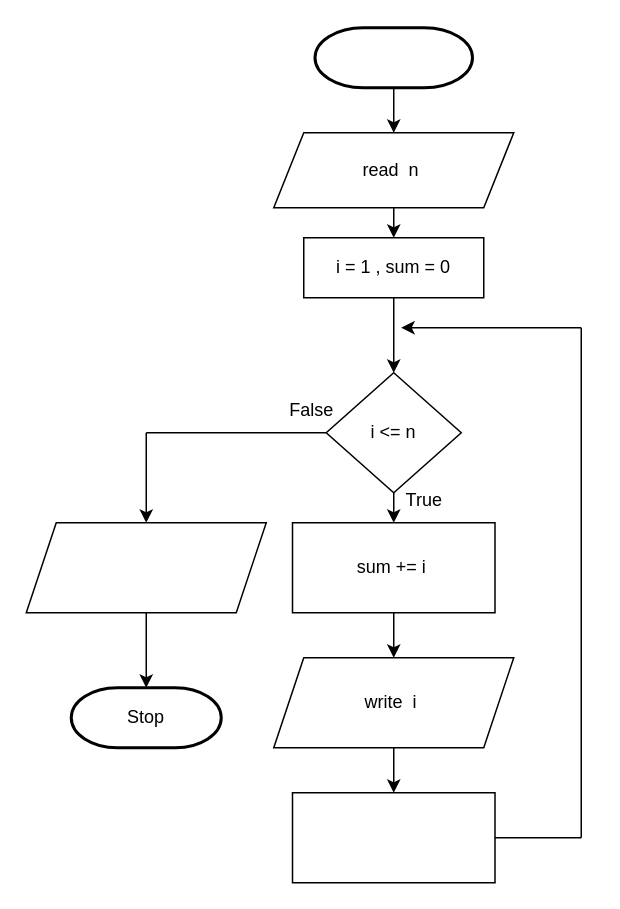
Some shapes in this 620 by 909 pixel diagram are drawn without their labels. Each missing label, with the box of its shape:
i += 1: (291, 791, 495, 883)
Start: (313, 26, 473, 88)
write sum: (25, 521, 266, 613)
